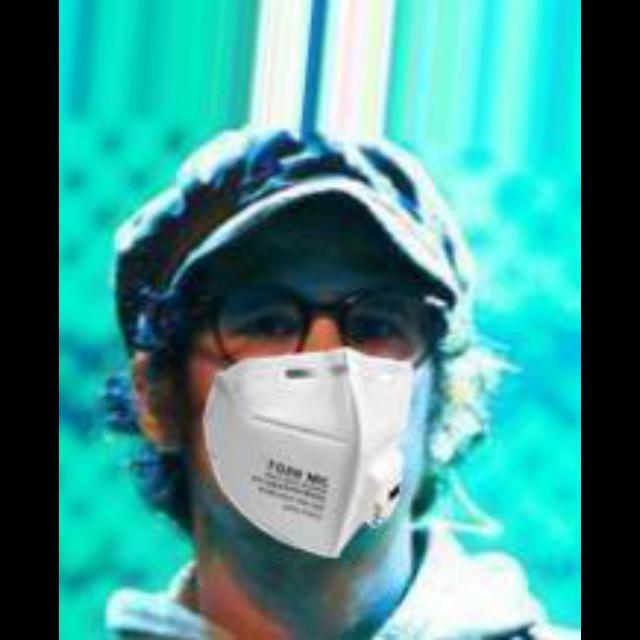suspicion: (164, 196, 462, 554)
